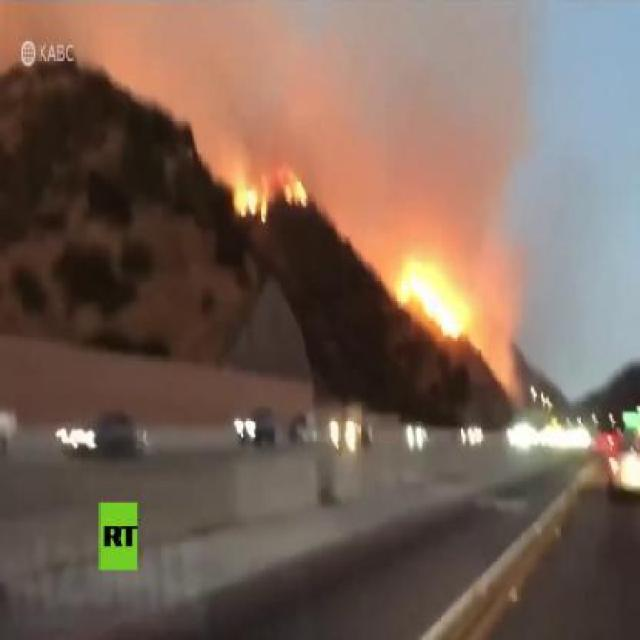Fire: (394, 261, 466, 341), (230, 184, 268, 224), (280, 172, 309, 206)
